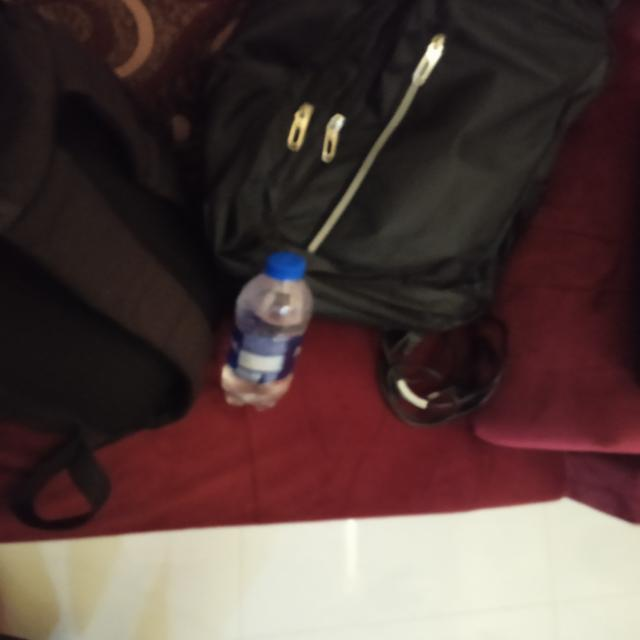Plastic: (213, 247, 320, 416)
